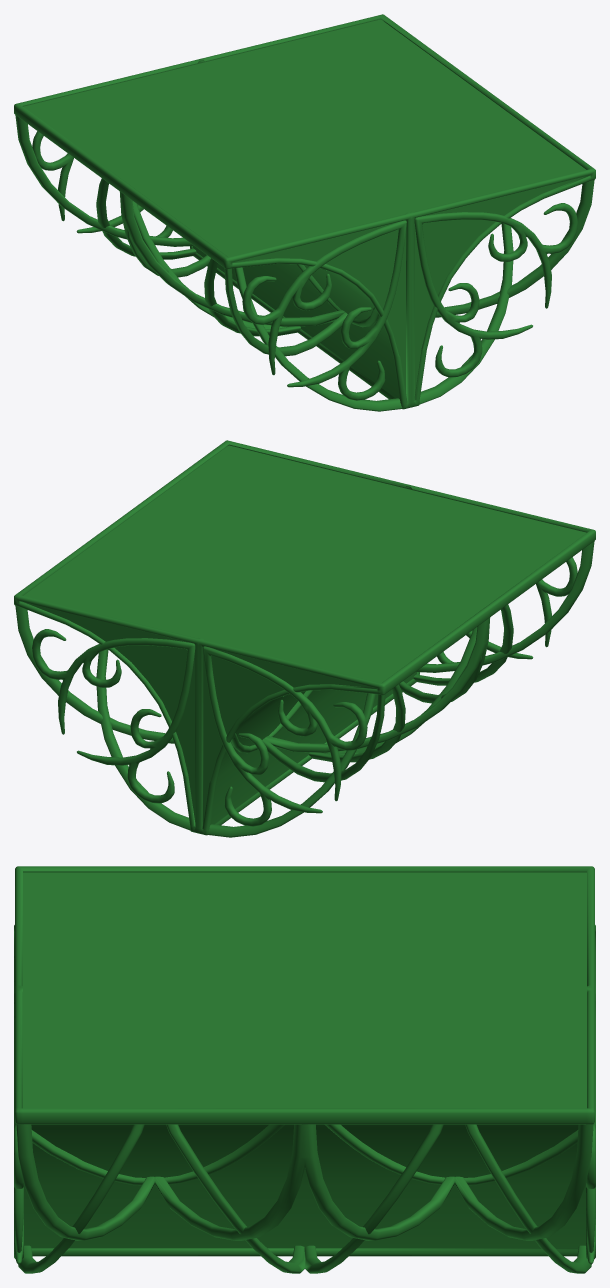
File: SM_elfe_corbel_low.fbx
3 views of the same model, one above another, from view 1: azimuth 30°, elevation 25°; view 2: azimuth 150°, elevation 25°; view 3: azimuth 270°, elevation 25° (orthographic). The views are drawn at different scales.
Parts seen in each view (by area): view 1: SM_elfe_corbel_low; view 2: SM_elfe_corbel_low; view 3: SM_elfe_corbel_low.
Part boxes in pixels (x1,y1,x2,y2): SM_elfe_corbel_low: (14,14,595,411); SM_elfe_corbel_low: (14,440,595,837); SM_elfe_corbel_low: (14,866,595,1273).
Size of the model in its own units: 39.36 by 19.68 by 39.37.
